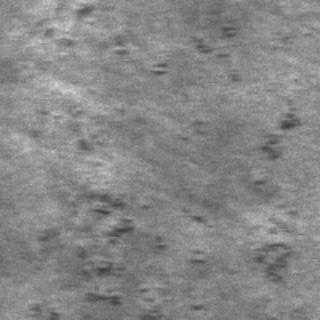rolled pit: (45, 120, 163, 316), (239, 102, 301, 296), (54, 24, 240, 82)
